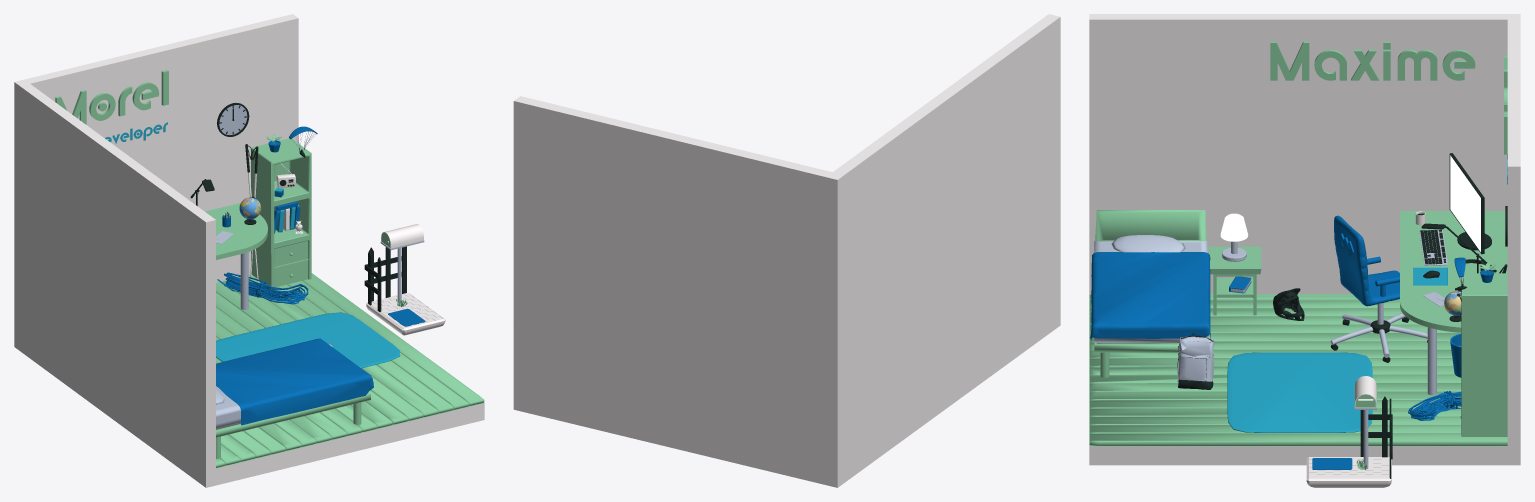
3 views of the same model, side by side, from view 1: azimuth 30°, elevation 25°; view 2: azimuth 150°, elevation 25°; view 3: azimuth 270°, elevation 25° (orthographic). The views are drawn at different scales.
Visible parts, largest first — view 1: room, bed, shelve, floormat, room-entry, table, name, rope, letter-box, clock, drawer; view 2: room; view 3: room, bed, floormat, shelve, table, chair, name, room-entry, night table, backpack, screen-video, letter-box (+6 smaller).
Part boxes in pixels (x1,y1,x2,y2): room: (14,14,484,487); bed: (216,338,373,458); shelve: (251,138,311,286); floormat: (216,312,400,368); room-entry: (364,246,445,335); table: (205,203,267,309); name: (55,70,168,124); rope: (217,272,308,304); letter-box: (380,224,424,305); clock: (217,102,249,136); drawer: (274,260,307,287); room: (513,14,1060,487); room: (1089,14,1520,465); bed: (1090,210,1210,377); floormat: (1227,352,1372,432); shelve: (1460,273,1507,436); table: (1400,211,1507,395); chair: (1330,215,1427,362); name: (1270,41,1507,154); room-entry: (1306,396,1392,487); night table: (1208,246,1261,315); backpack: (1177,333,1214,389); screen-video: (1450,155,1480,251); letter-box: (1354,376,1376,469).
Bounding box in the file's own units: 6.72 × 5.06 × 6.62.
Materials: 27 (1 with a texture image).
